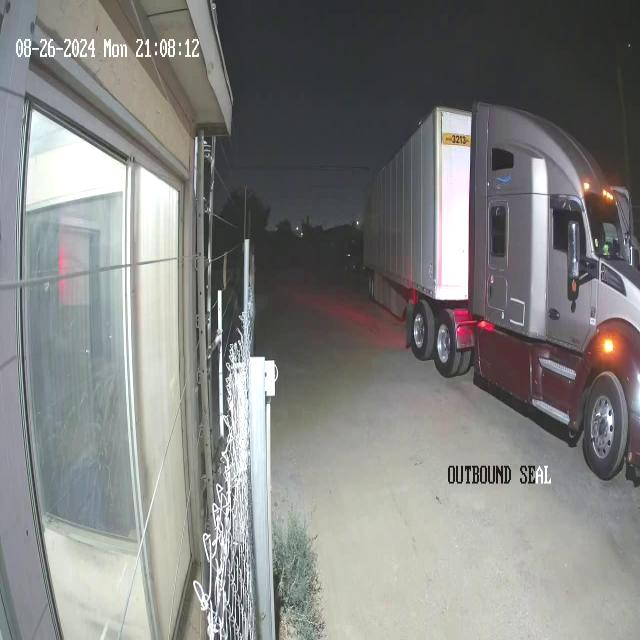CONTAINER: (363, 100, 480, 302)
